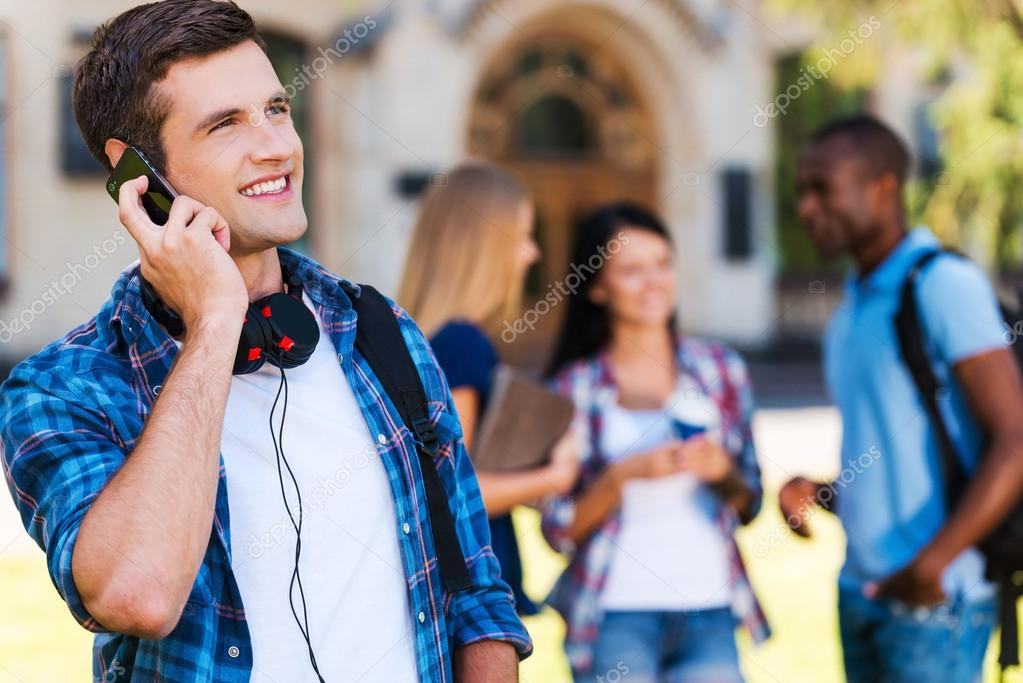phone: (103, 145, 237, 279)
talk: (100, 98, 323, 306)
